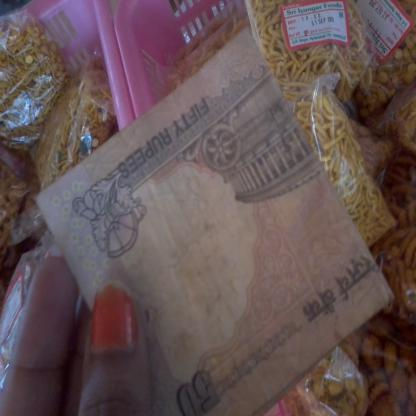Old50Back: (32, 25, 395, 416)
